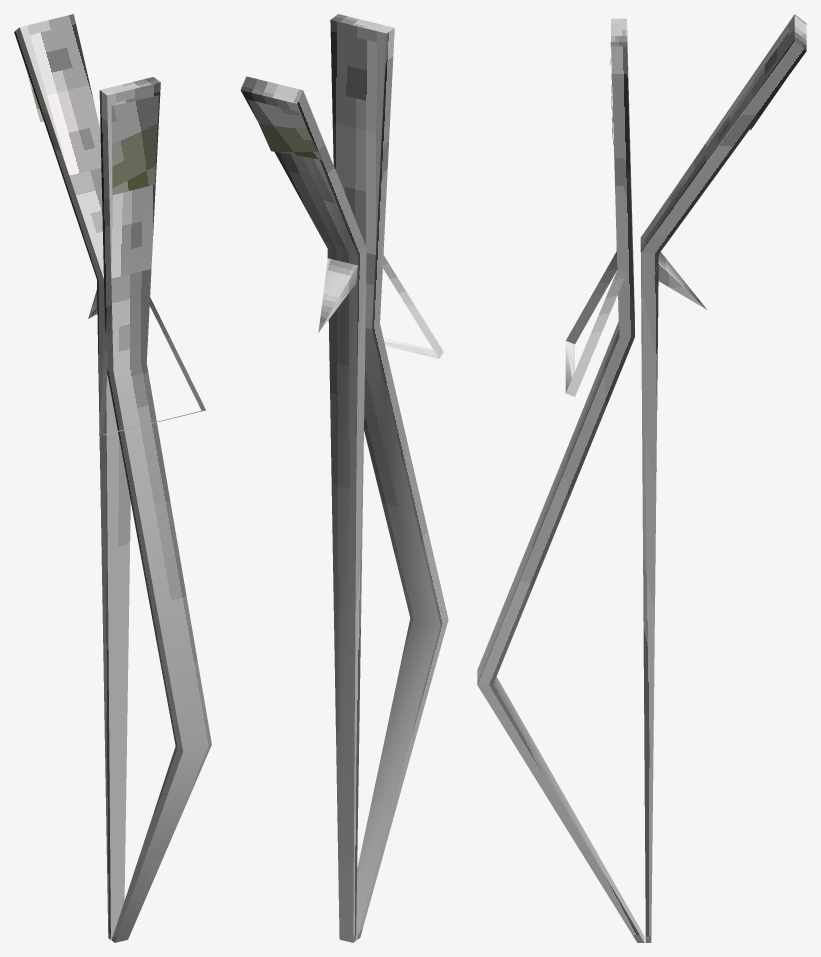
File: thm_prp_meds_extraction_device_l2.fbx
The picture shows the model from 3 angles, left to right: view 1: azimuth 30°, elevation 25°; view 2: azimuth 150°, elevation 25°; view 3: azimuth 270°, elevation 25°; orthographic projection. The views are drawn at different scales.
Visible parts, largest first — view 1: mesh_node; view 2: mesh_node; view 3: mesh_node.
Part boxes in pixels (x1,y1,x2,y2): mesh_node: (14, 14, 211, 942); mesh_node: (240, 14, 448, 942); mesh_node: (477, 14, 806, 942).
Size of the model in its own units: 0.0441 by 0.3546 by 0.1161.
Materials: 1 (1 with a texture image).
